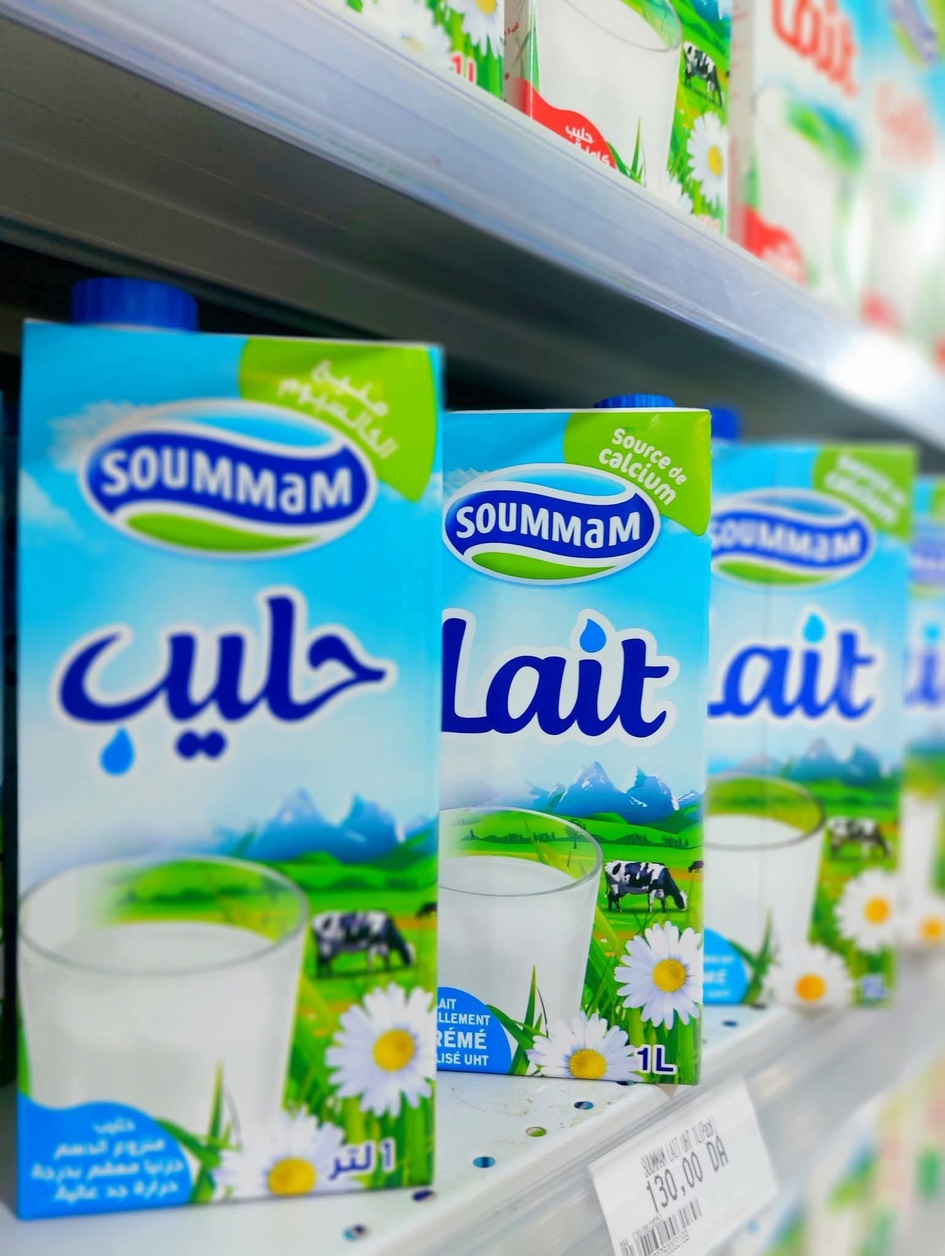soummam_milk: (8, 272, 448, 1230), (438, 388, 722, 1093), (709, 394, 920, 1024)
